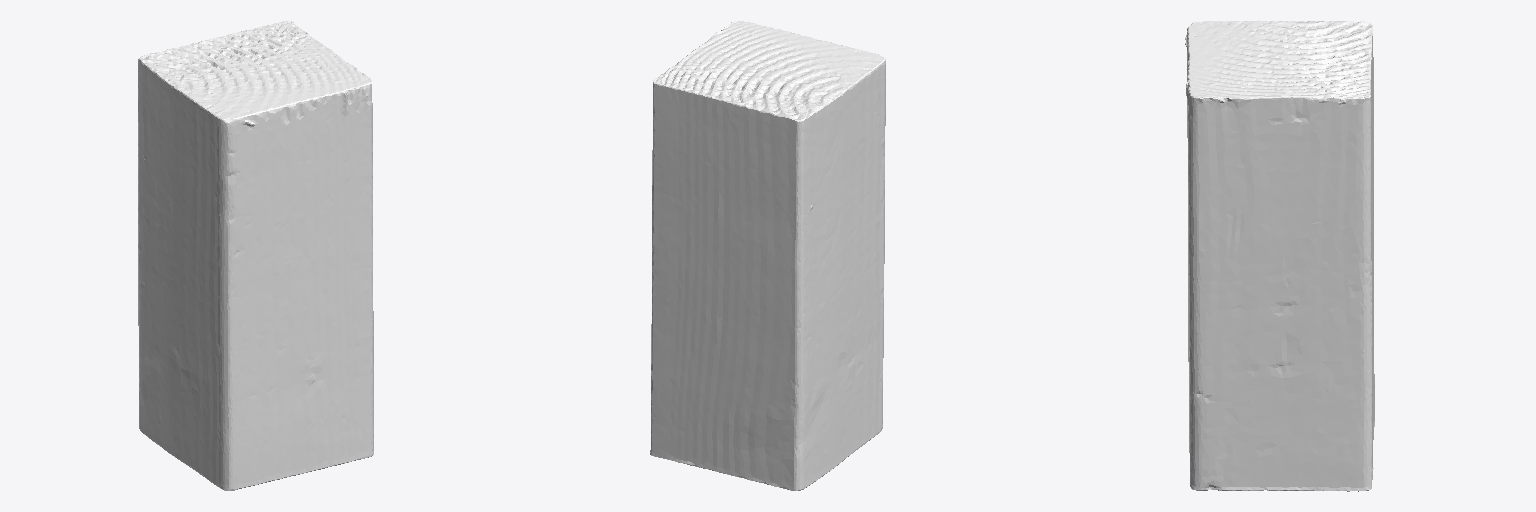
URDF robot description (pudding_box):
<robot name="pudding_box">
	<link name="base_link">
		<visual>
			<origin xyz="-0.0015176495741759271 -0.018795882107541014 -0.01865770198611293" rpy="0.0 0.0 0.0" />
			<geometry>
				<mesh filename="008_pudding_box/google_16k/textured.obj" scale="1 1 1" />
			</geometry>
			<material name="texture">
				<color rgba="1.0 1.0 1.0 1.0" />
			</material>
		</visual>
		<collision>
			<origin xyz="-0.0015176495741759271 -0.018795882107541014 -0.01865770198611293" rpy="0.0 0.0 0.0" />
			<geometry>
				<mesh filename="008_pudding_box/google_16k/textured_vhacd.obj" scale="1 1 1" />
			</geometry>
		</collision>
		<inertial>
			<mass value="0.187" />
			<inertia ixx="1e-3" ixy="0.0" ixz="0.0" iyy="1e-3" iyz="0.0" izz="1e-3" />
		</inertial>
	</link>
</robot>

--- Facts derived from the render (not from the file) ---
The picture shows the robot from 3 angles, left to right: view 1: azimuth 30°, elevation 25°; view 2: azimuth 150°, elevation 25°; view 3: azimuth 270°, elevation 25°; orthographic projection.
Robot: pudding_box — 1 links, 0 joints (none); root link base_link; default pose: all joints at 0.
Links seen in each view (by area): view 1: base_link; view 2: base_link; view 3: base_link.
Link boxes in pixels (left/top/right/bottom): base_link: left=138, top=21, right=373, bottom=490; base_link: left=650, top=21, right=885, bottom=490; base_link: left=1185, top=20, right=1374, bottom=491.
Bounding box of the posed robot: 0.0906 × 0.0899 × 0.206 m (x, y, z).
1 mesh visuals loaded from 1 distinct referenced files (1 OBJ).